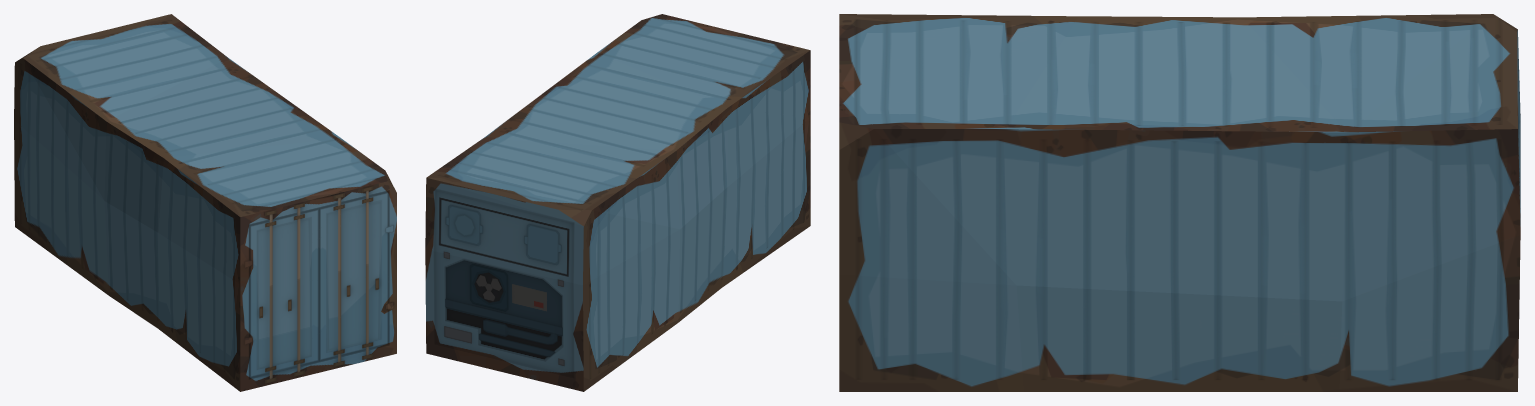
The model's file is SM_Prop_Container_02.fbx.
3 renders of one model, left to right at view 1: azimuth 30°, elevation 25°; view 2: azimuth 150°, elevation 25°; view 3: azimuth 270°, elevation 25°, orthographic. The views are drawn at different scales.
Parts seen in each view (by area): view 1: SM_Prop_Container_02; view 2: SM_Prop_Container_02; view 3: SM_Prop_Container_02.
Boxes of the visible parts, box(x1,y1,x2,y2) form: SM_Prop_Container_02: box(14, 14, 396, 391); SM_Prop_Container_02: box(425, 14, 810, 391); SM_Prop_Container_02: box(839, 14, 1520, 391).
Size of the model in its own units: 252 by 259 by 608.
